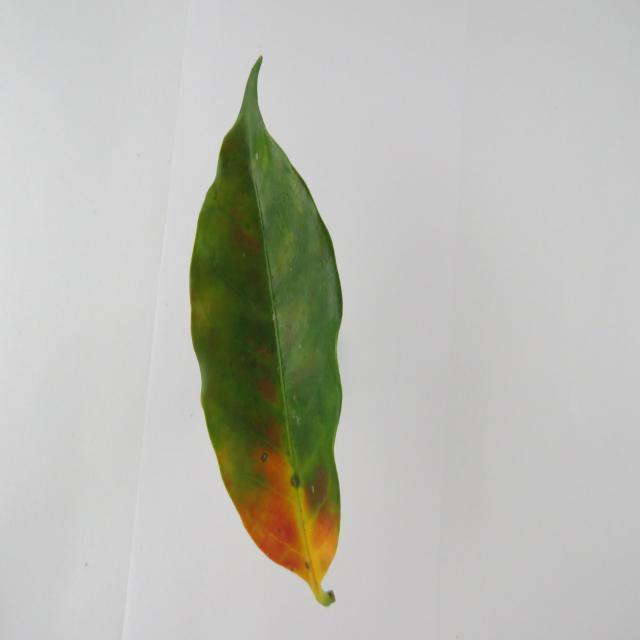DeficienciaNutricional-Fosforo: (190, 57, 342, 607)
